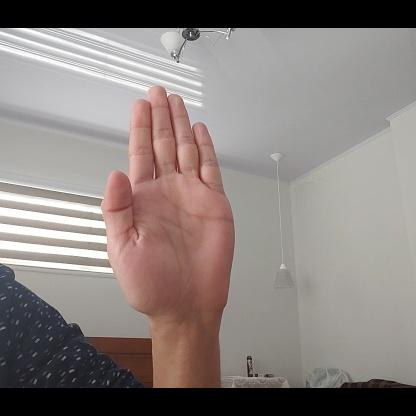B: (100, 83, 237, 319)
